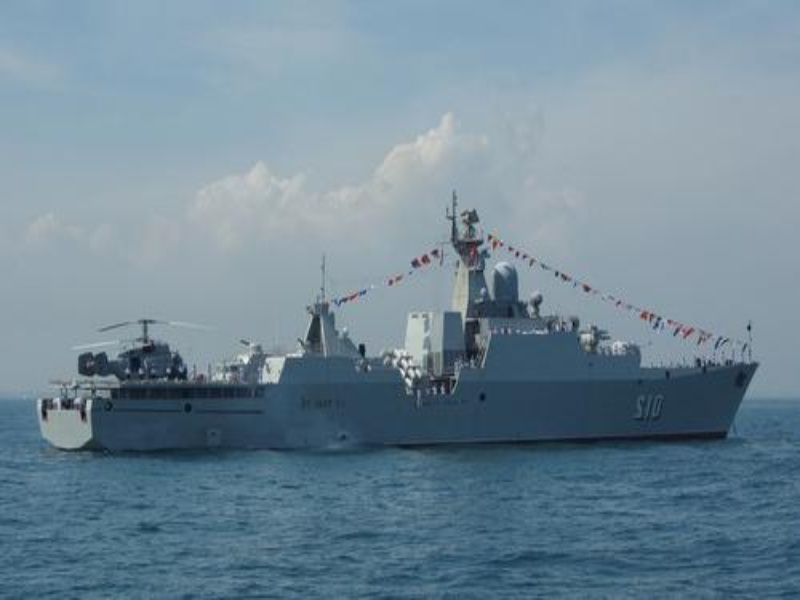cruise: (34, 205, 758, 448)
